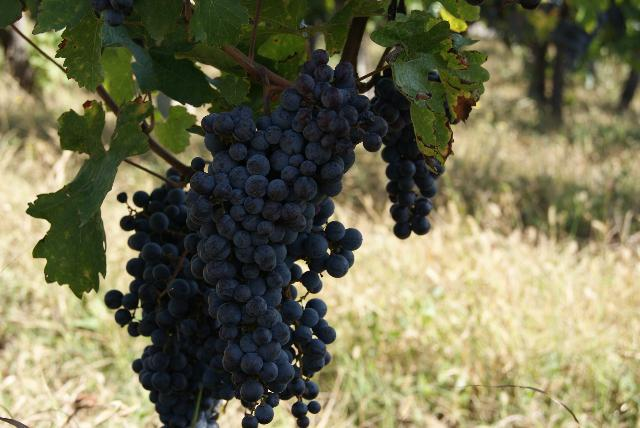grapes: (185, 50, 410, 424), (105, 184, 235, 428), (372, 76, 445, 239)
